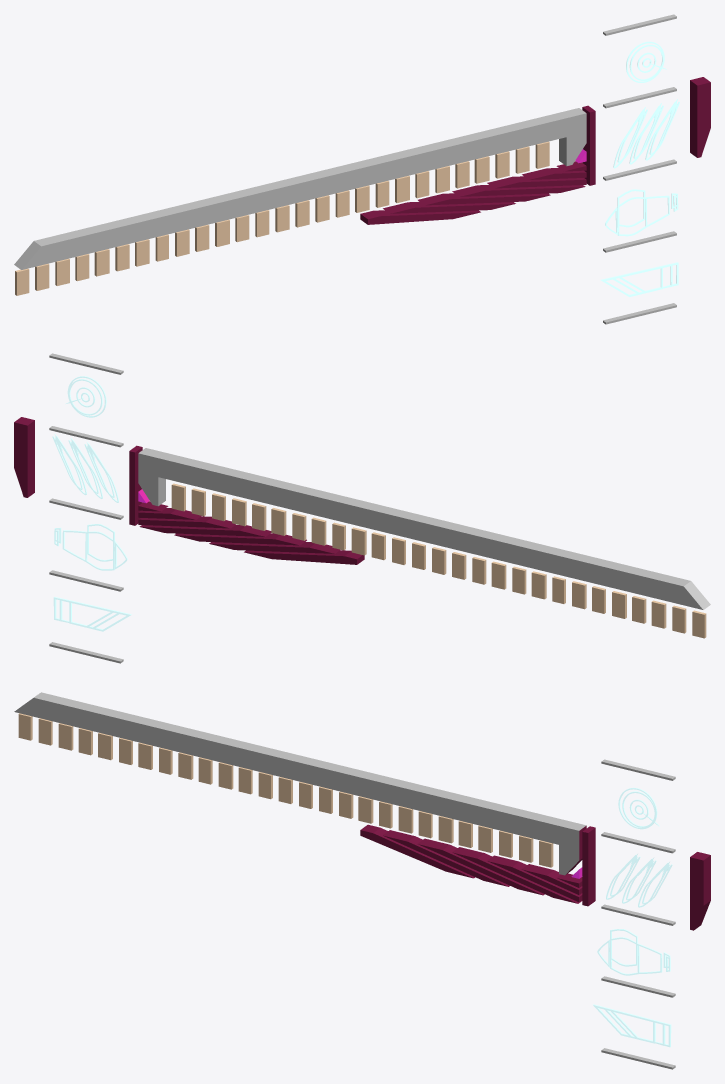
File: 3DGui.fbx
3 views of the same model, one above another, from view 1: azimuth 30°, elevation 25°; view 2: azimuth 150°, elevation 25°; view 3: azimuth 330°, elevation 25° (orthographic).
Visible parts, largest first — view 1: 1srtBar_1, Rapid, Bomb, Cap_1_43, laser, Cap_1_8, GuiEnd, Mine, Cap_1_7, Cap_1_5, Cap_1_6, Path_37 (+2 smaller); view 2: 1srtBar_1, Rapid, Bomb, Cap_2_43, laser, Cap_2_8, GuiEnd, Mine, Cap_2_5, Cap_2_7, Cap_2_6; view 3: 1srtBar_1, Rapid, laser, Cap_1_43, Bomb, Cap_1_8, Mine, Bar, GuiEnd, Cap_1_5, Cap_1_6, Cap_1_7.
Part boxes in pixels (left/top/right/bottom): 1srtBar_1: left=14, top=108, right=586, bottom=269; Rapid: left=613, top=99, right=679, bottom=168; Bomb: left=605, top=189, right=678, bottom=236; Cap_1_43: left=697, top=82, right=710, bottom=157; laser: left=600, top=262, right=678, bottom=296; Cap_1_8: left=368, top=212, right=480, bottom=224; GuiEnd: left=690, top=77, right=710, bottom=157; Mine: left=626, top=41, right=666, bottom=82; Cap_1_7: left=390, top=204, right=514, bottom=213; Cap_1_5: left=460, top=187, right=584, bottom=196; Cap_1_6: left=426, top=195, right=549, bottom=205; Path_37: left=418, top=193, right=550, bottom=205; 1srtBar_1: left=138, top=448, right=710, bottom=609; Rapid: left=52, top=434, right=118, bottom=502; Bomb: left=54, top=524, right=127, bottom=570; Cap_2_43: left=14, top=422, right=27, bottom=497; laser: left=53, top=597, right=131, bottom=631; Cap_2_8: left=244, top=552, right=356, bottom=564; GuiEnd: left=14, top=417, right=34, bottom=497; Mine: left=65, top=376, right=106, bottom=417; Cap_2_5: left=140, top=527, right=264, bottom=536; Cap_2_7: left=210, top=544, right=334, bottom=553; Cap_2_6: left=175, top=535, right=298, bottom=545; 1srtBar_1: left=14, top=692, right=586, bottom=875; Rapid: left=606, top=854, right=672, bottom=907; laser: left=593, top=1004, right=671, bottom=1047; Cap_1_43: left=690, top=857, right=703, bottom=930; Bomb: left=597, top=929, right=670, bottom=975; Cap_1_8: left=360, top=830, right=472, bottom=878; Mine: left=618, top=787, right=659, bottom=829; Bar: left=583, top=826, right=595, bottom=905; GuiEnd: left=690, top=852, right=710, bottom=929; Cap_1_5: left=453, top=852, right=577, bottom=903; Cap_1_6: left=418, top=844, right=542, bottom=895; Cap_1_7: left=383, top=835, right=507, bottom=886.
Size of the model in its own units: 1065 by 429 by 21.2.
